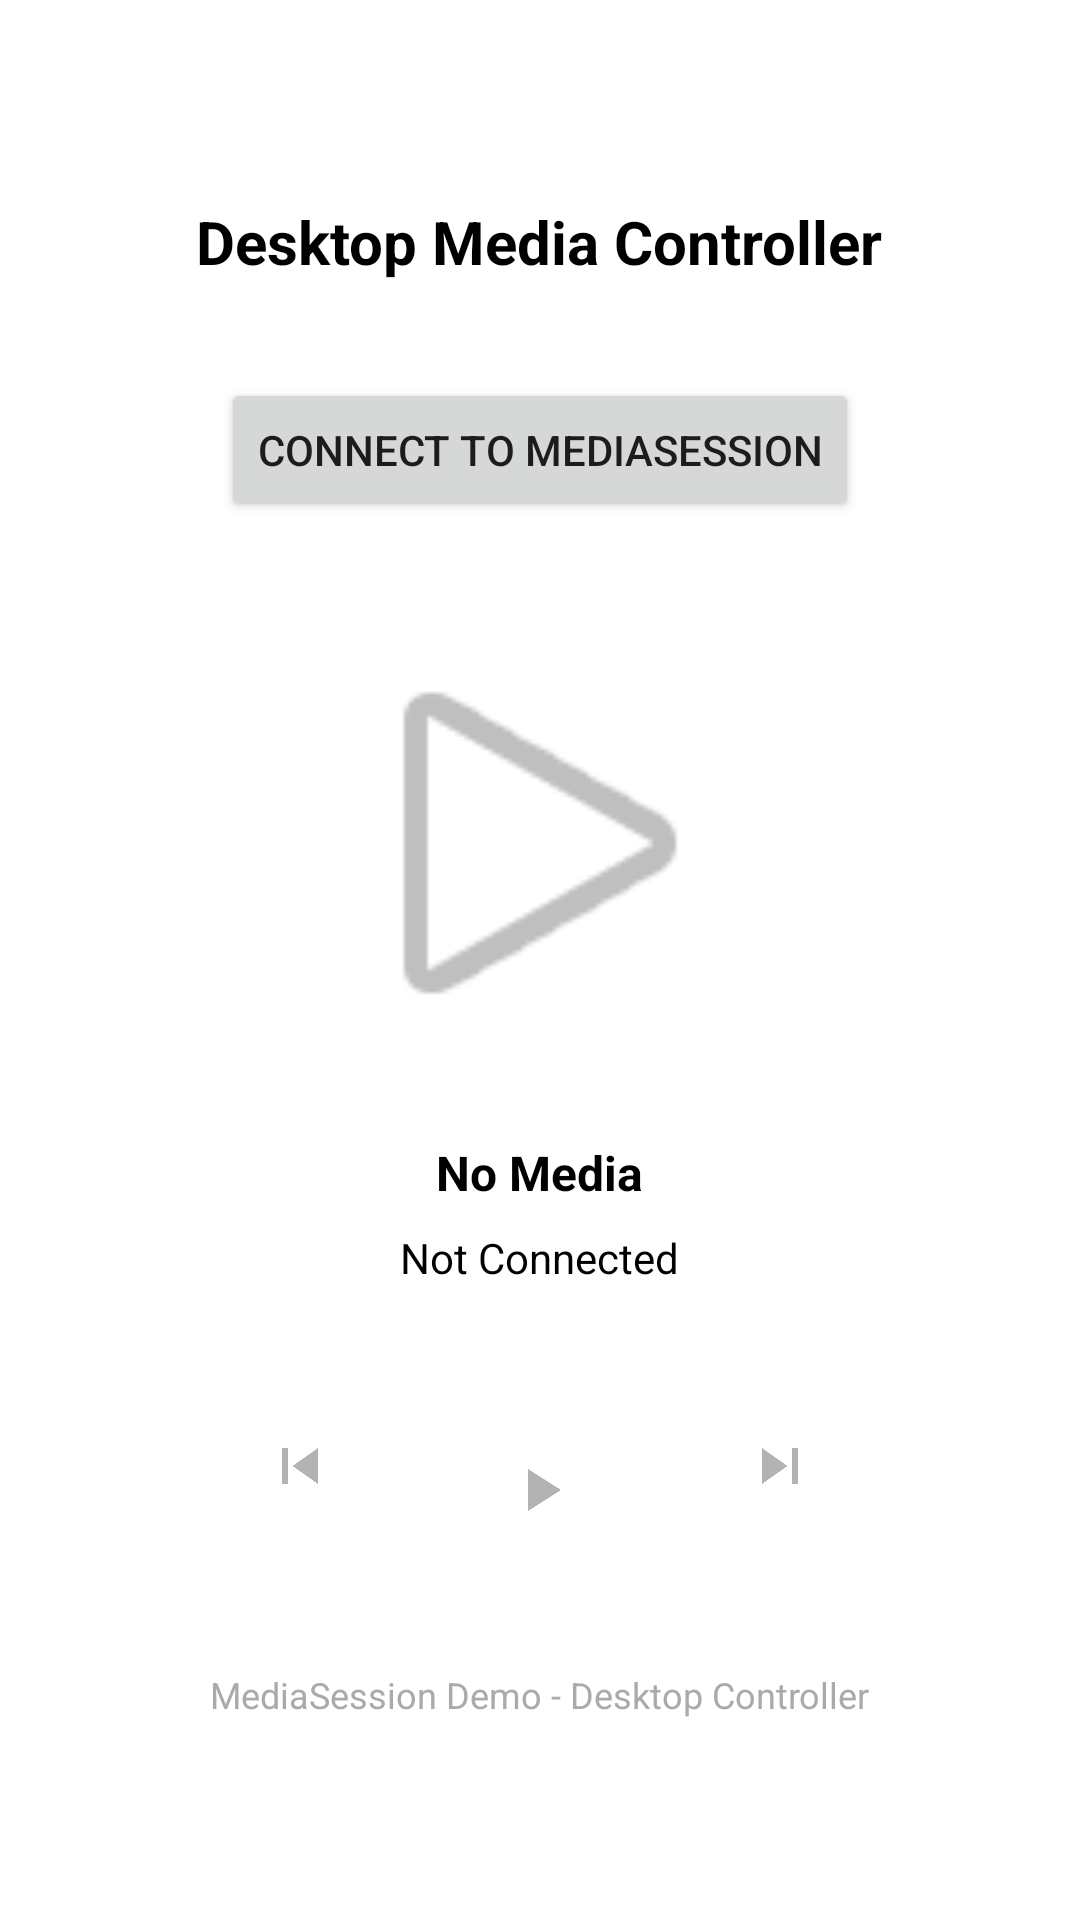

Icon click points for this 1080*1920 phone screenshot, format [x,y]:
play: [540,843]
play arrow: [544,1490]
skip next: [780,1466]
skip previous: [300,1466]
